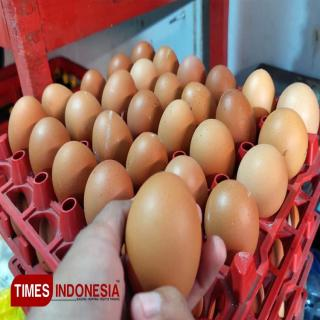Telur: (5, 32, 320, 309)
